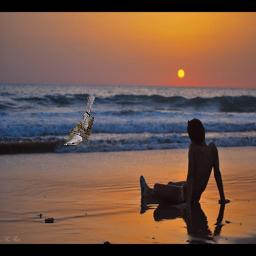Cuckoo: (63, 95, 95, 146)
